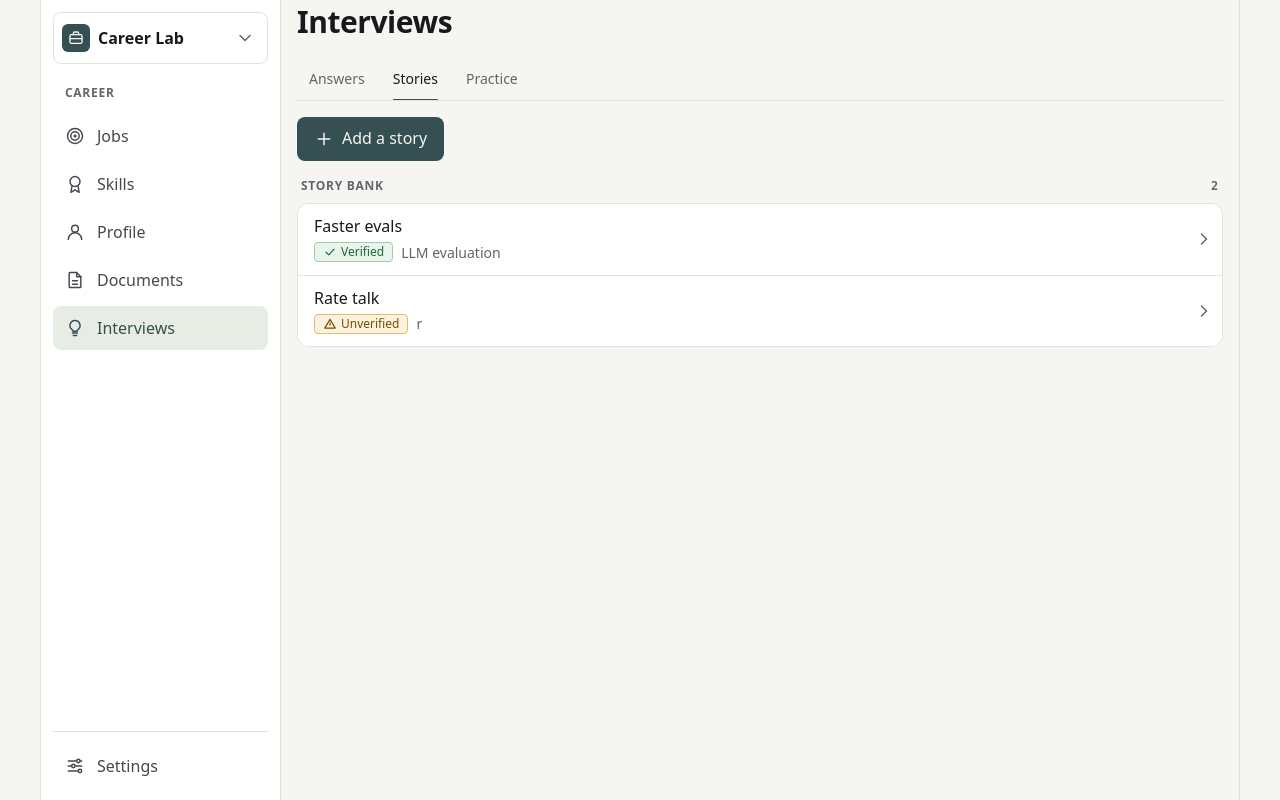
Test: Interviews · stories and practice › marks stories verified or not, and saves the facts a story rests on
Check: the text "Verified" is shown, box x1=314 y1=242 x2=393 y2=262
Check: the text "Unverified" is shown, box x1=314 y1=314 x2=408 y2=334
Click the button "Rate talk r" at (347, 298), box x1=298 y1=275 x2=1222 y2=346
(page scrolled)
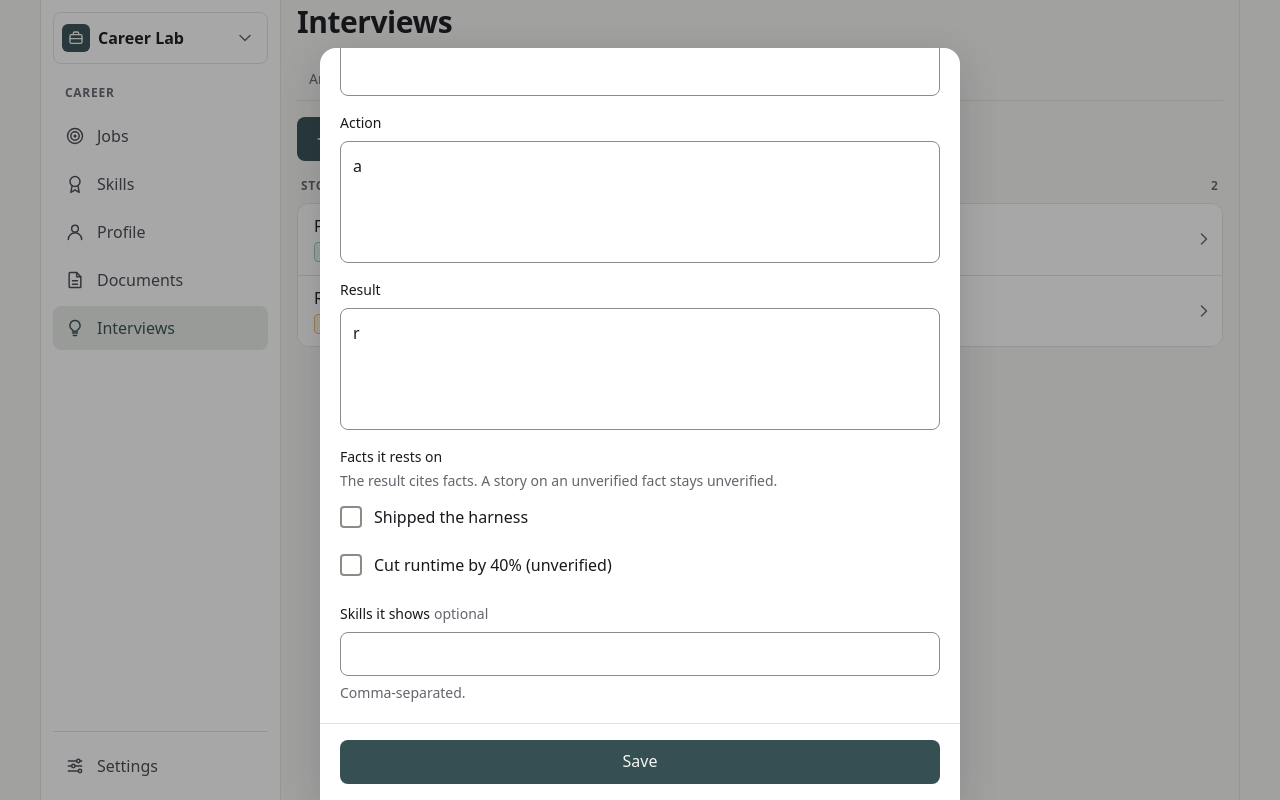
Click the checkbox labelled "Cut runtime by 40% (unverified)" at (351, 565), box x1=340 y1=554 x2=362 y2=576
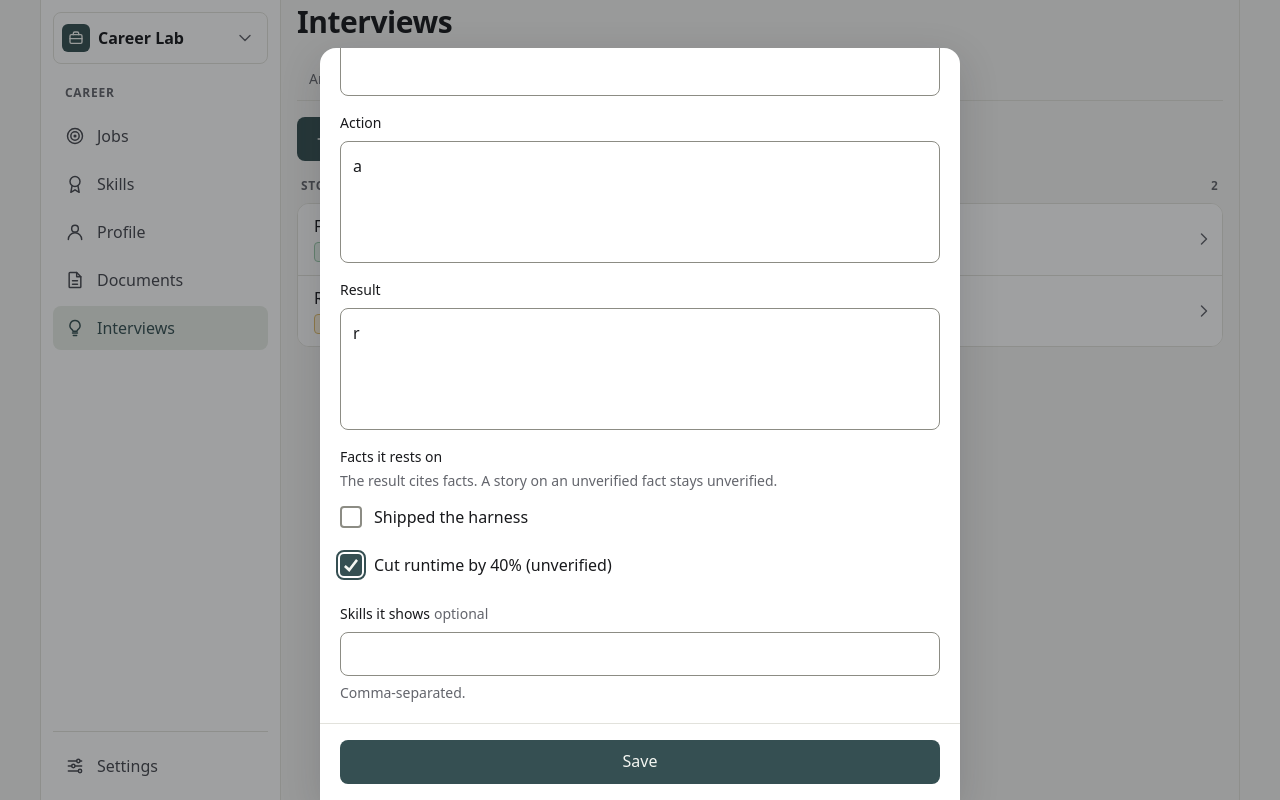
Click the button "Save" at (640, 762), box x1=340 y1=740 x2=940 y2=784
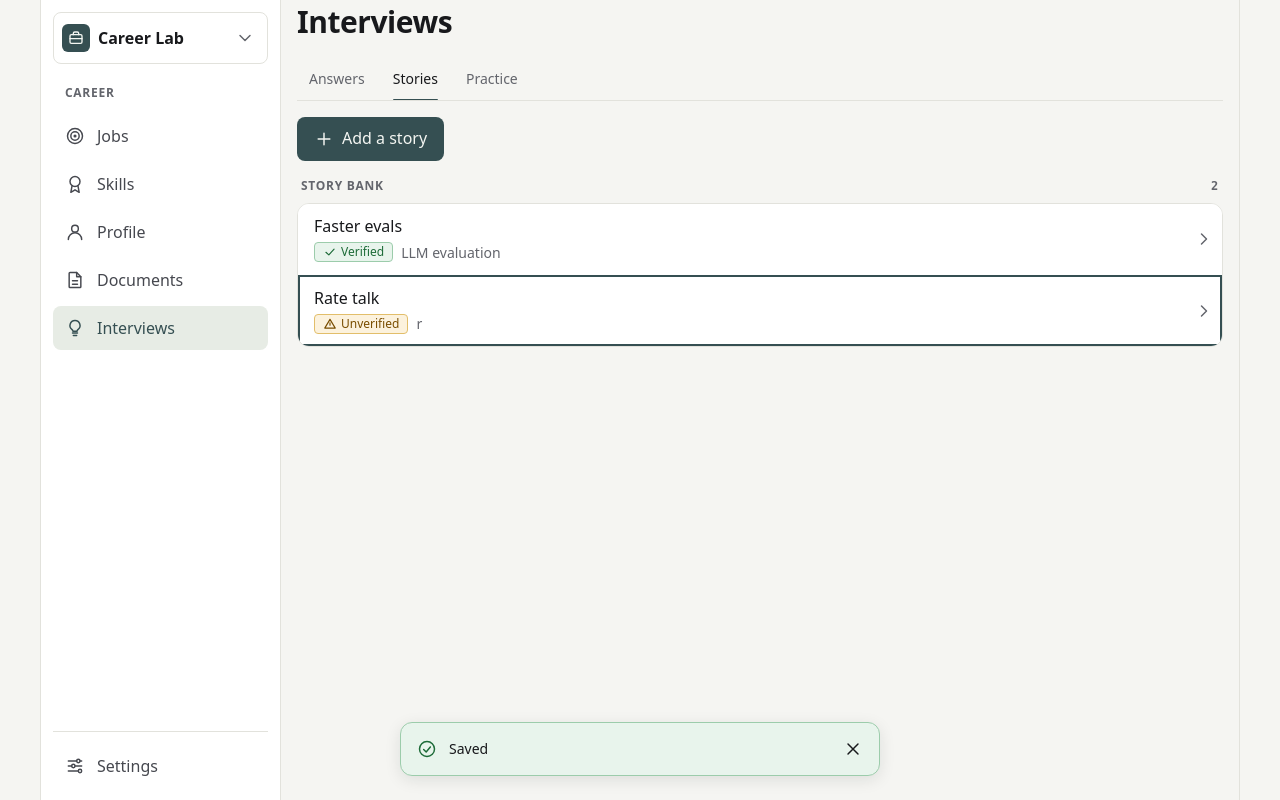
Check: the text "Saved" is shown, box x1=449 y1=738 x2=488 y2=758
